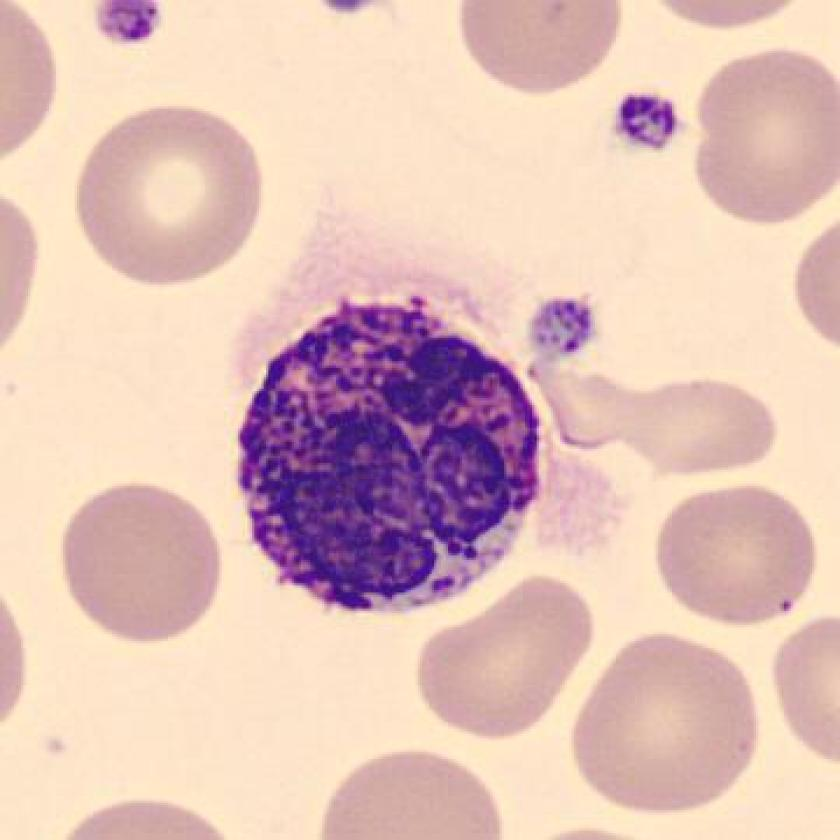basophil: (227, 272, 561, 628)
